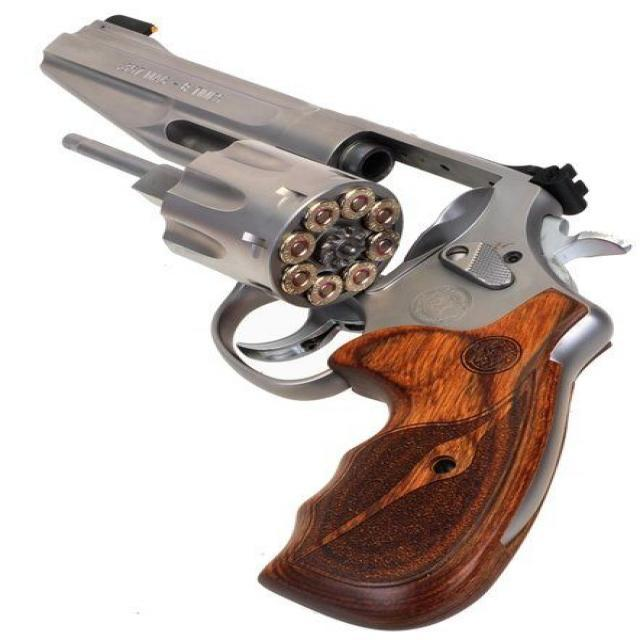revolver: (3, 2, 638, 638)
